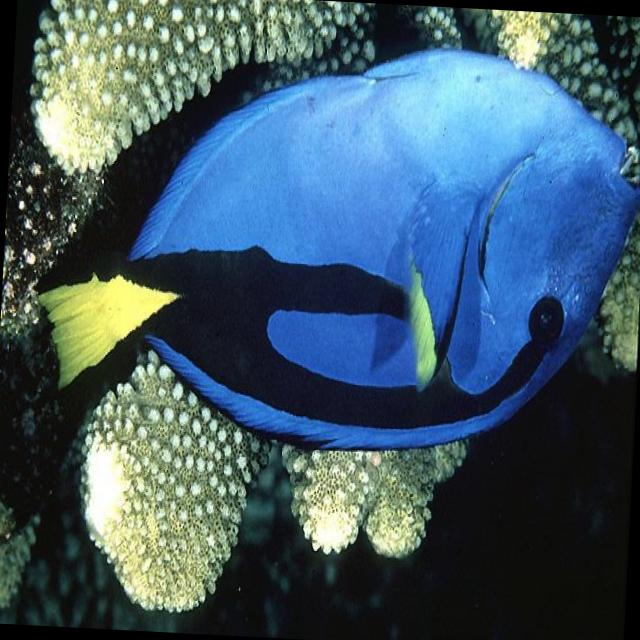BlueTang: (39, 32, 640, 456)
